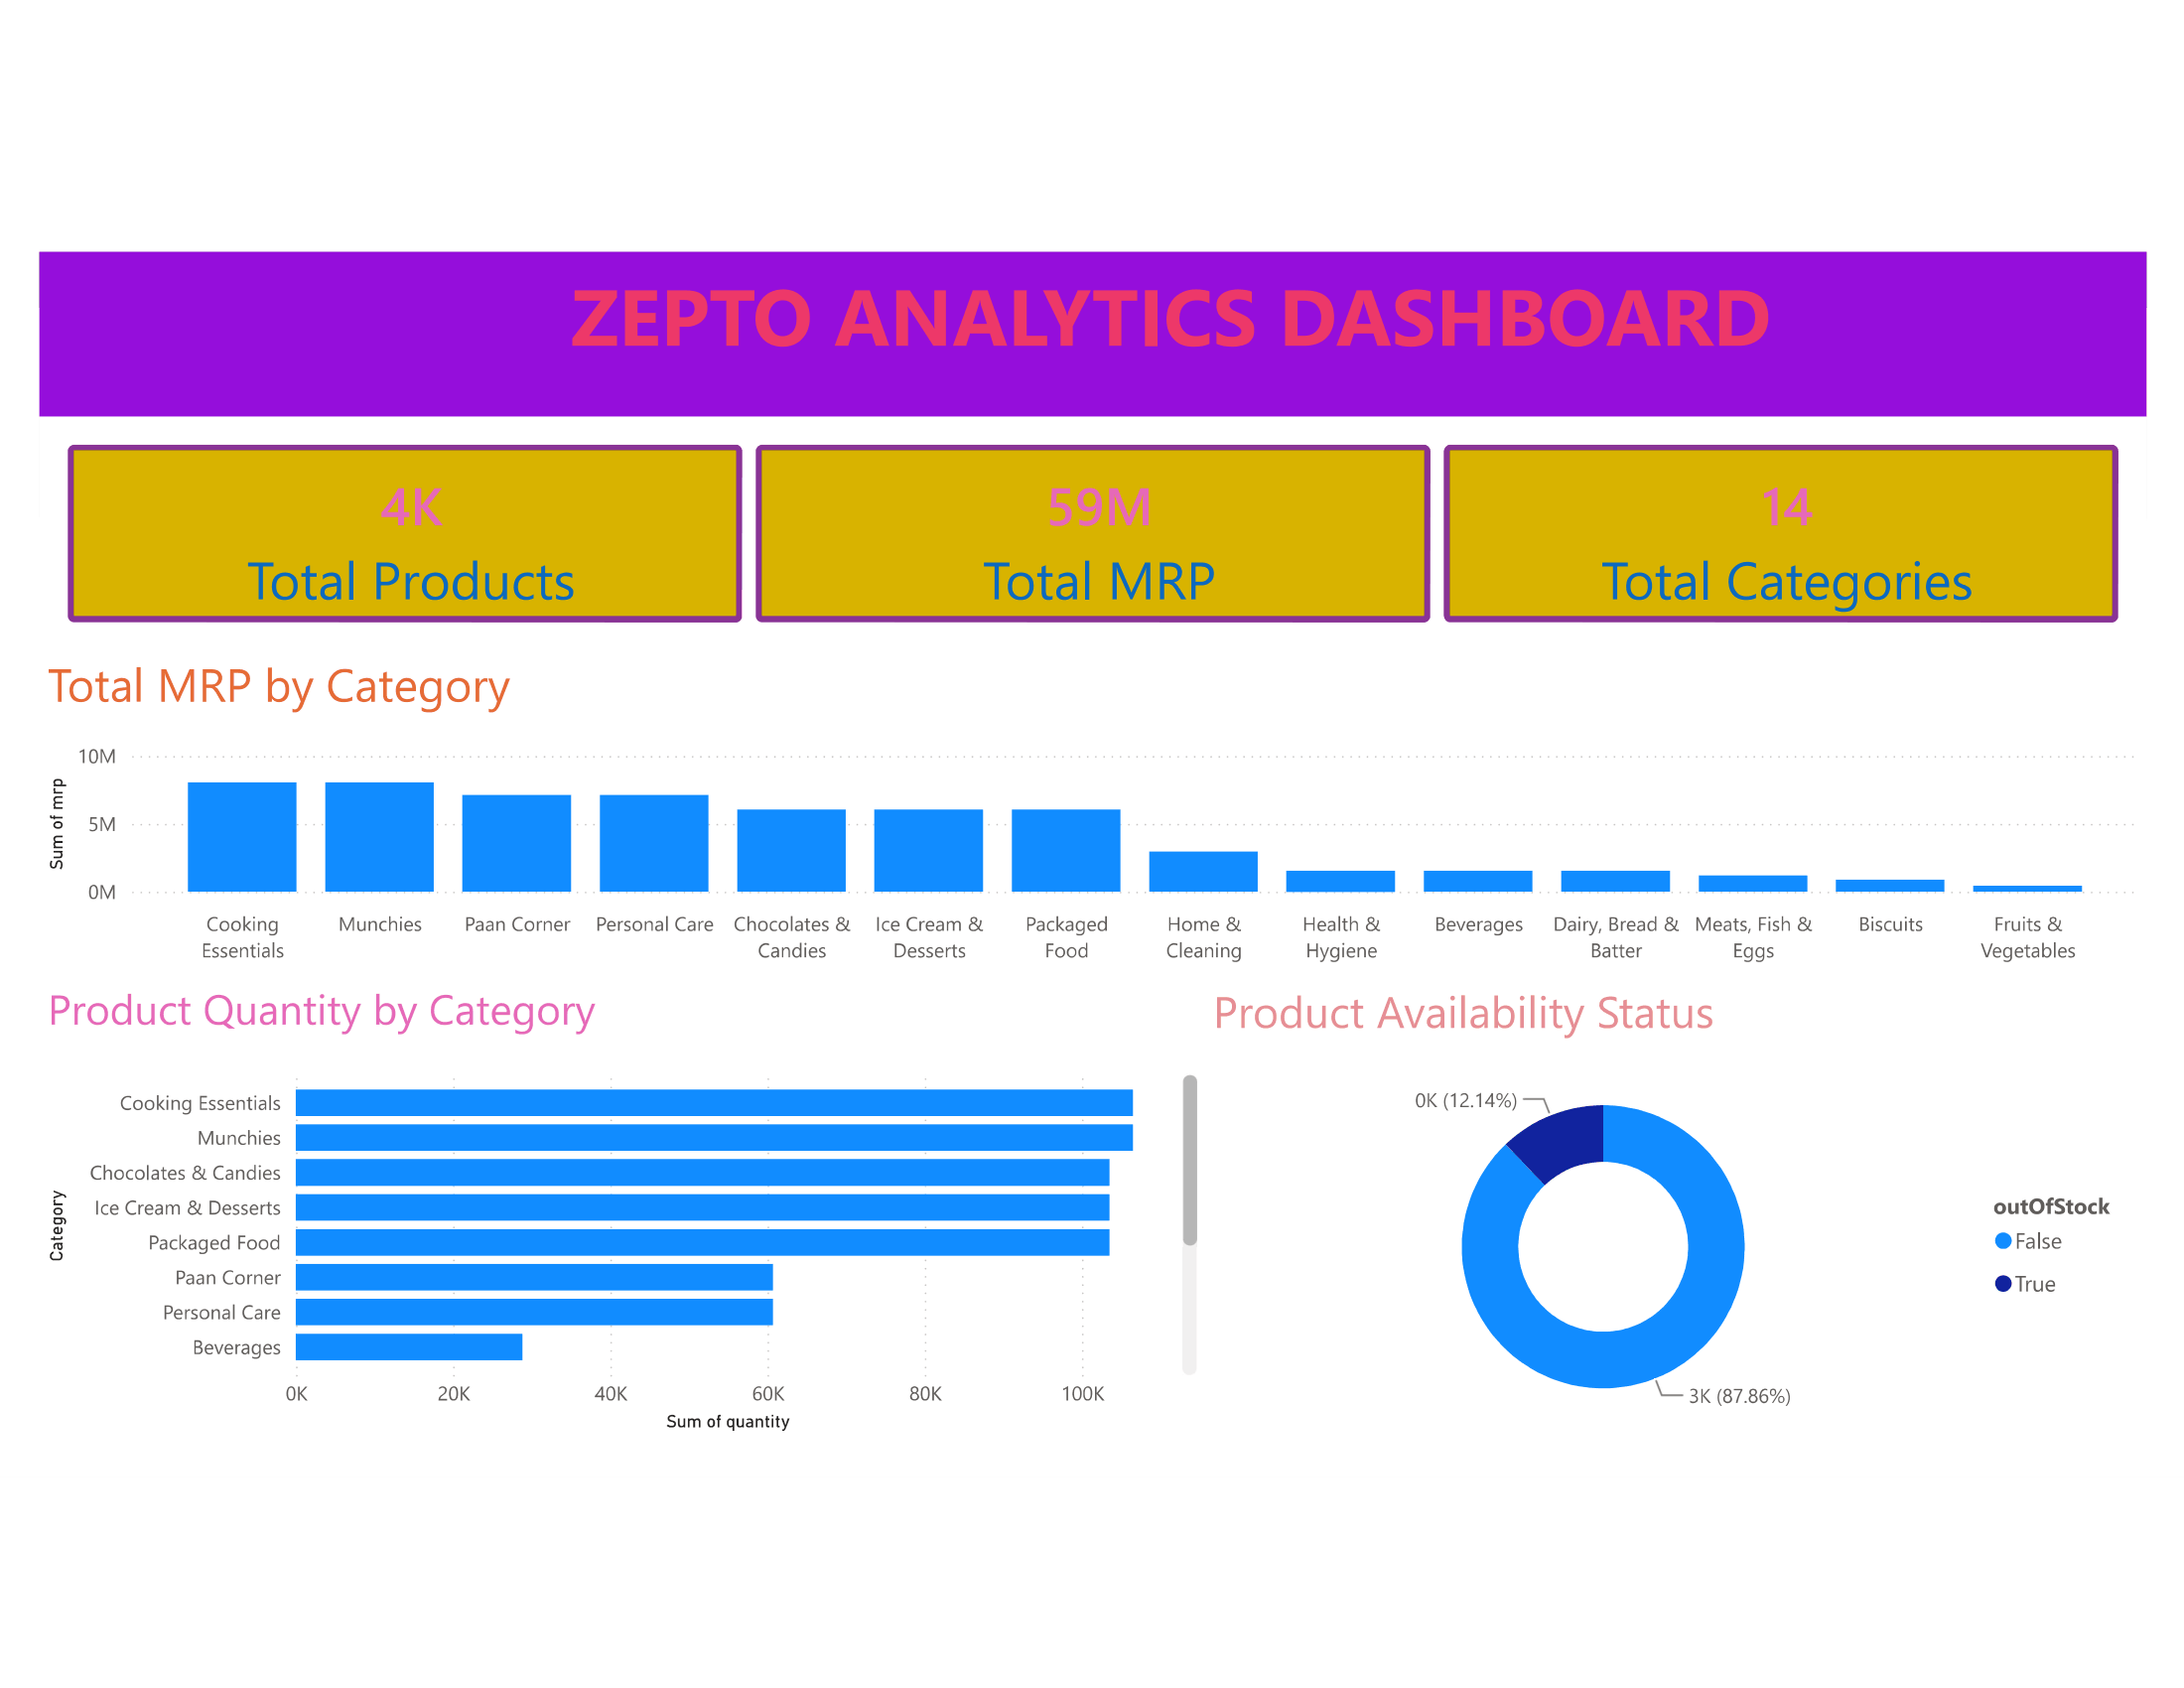

The page's visual inventory and layout, read from the dashboard file:
{"tool":"powerbi","page":{"name":"Page 1","canvas":[1280,720],"ordinal":0},"visuals":[{"type":"textbox","box":[0,0,1280.3,100.2],"z":2000},{"type":"cardVisual","fields":{"Data":["zepto_v1.Total Products","zepto_v1.Total MRP","zepto_v1.Total Categories"]},"box":[0,100.2,1280.3,142.7],"z":3000},{"type":"clusteredBarChart","title":"Product Quantity by Category","fields":{"Category":["zepto_v1.Category"],"Y":["Sum(zepto_v1.quantity)"]},"box":[0,441.9,708.1,278.6],"z":4000},{"type":"donutChart","title":"Product Availability Status","fields":{"Category":["zepto_v1.outOfStock"],"Y":["zepto_v1.Product Count"]},"box":[708.1,441.9,572.2,278.6],"z":4001},{"type":"clusteredColumnChart","title":"Total MRP by Category","fields":{"Category":["zepto_v1.Category"],"Y":["Sum(zepto_v1.mrp)"]},"box":[0,242.9,1280.3,196.2],"z":4002}]}

Visuals, with their boxes on the page's 1280x720 design canvas (x1, y1, x2, y2). These are canvas units, not pixel positions in the 2184x1688 screenshot, which may show the page scaled, cropped or inside an application window:
textbox: select_region(0, 0, 1280, 100)
cardVisual - zepto_v1.Total Products x zepto_v1.Total MRP: select_region(0, 100, 1280, 243)
"Product Quantity by Category" clusteredBarChart: select_region(0, 442, 708, 720)
"Product Availability Status" donutChart: select_region(708, 442, 1280, 720)
"Total MRP by Category" clusteredColumnChart: select_region(0, 243, 1280, 439)
